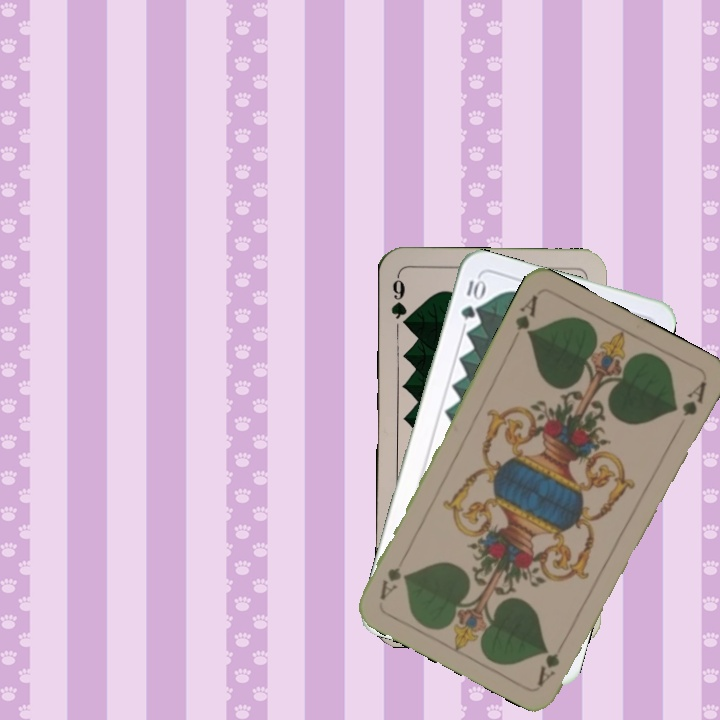G10: (456, 276, 486, 322)
G9: (387, 272, 412, 331)
GA: (533, 633, 568, 688), (511, 291, 541, 340)
